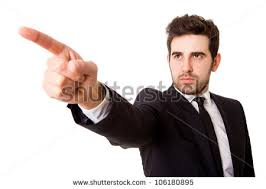hand: (9, 17, 106, 109)
